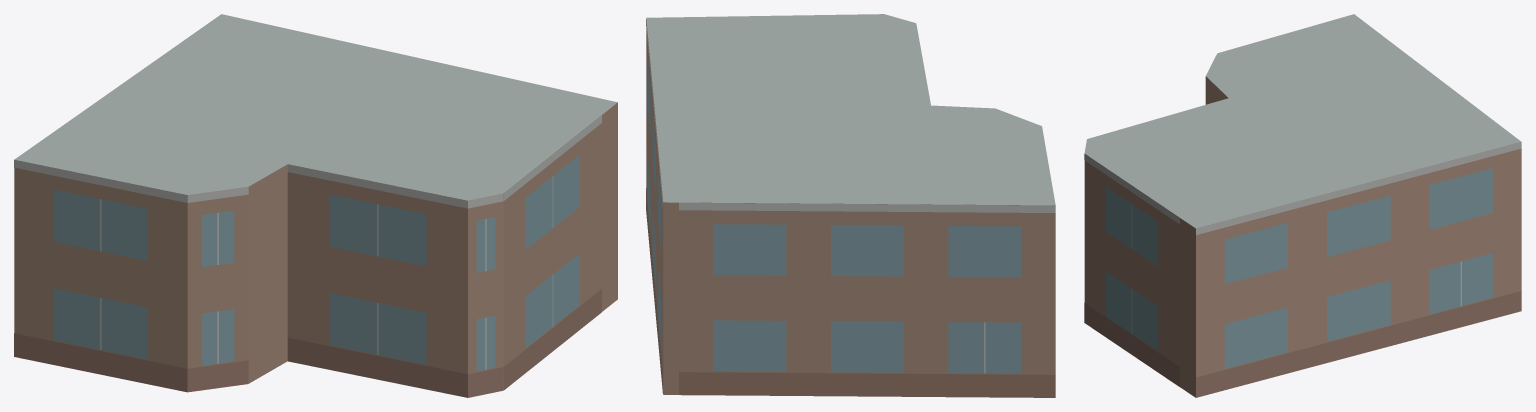
File: survey-upis-33013260.glb
The picture shows the model from 3 angles, left to right: view 1: azimuth 30°, elevation 25°; view 2: azimuth 150°, elevation 25°; view 3: azimuth 270°, elevation 25°; orthographic projection. The views are drawn at different scales.
Parts seen in each view (by area): view 1: survey-upis-33013260.tmp; view 2: survey-upis-33013260.tmp; view 3: survey-upis-33013260.tmp.
Part boxes in pixels (box(x1,y1,x2,y2)): survey-upis-33013260.tmp: box(14, 14, 617, 397); survey-upis-33013260.tmp: box(646, 14, 1055, 397); survey-upis-33013260.tmp: box(1084, 14, 1521, 397).
Size of the model in its own units: 16.57 by 6.1 by 14.27.
